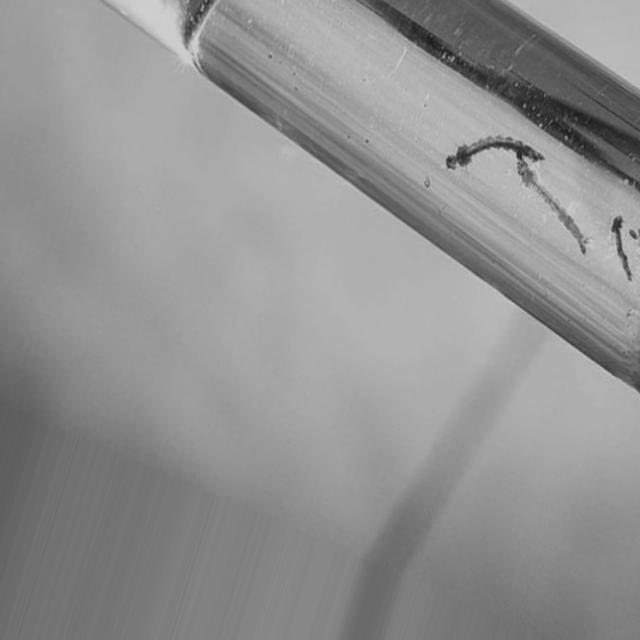larvas: (517, 155, 593, 255), (445, 131, 546, 174), (612, 218, 635, 286)
